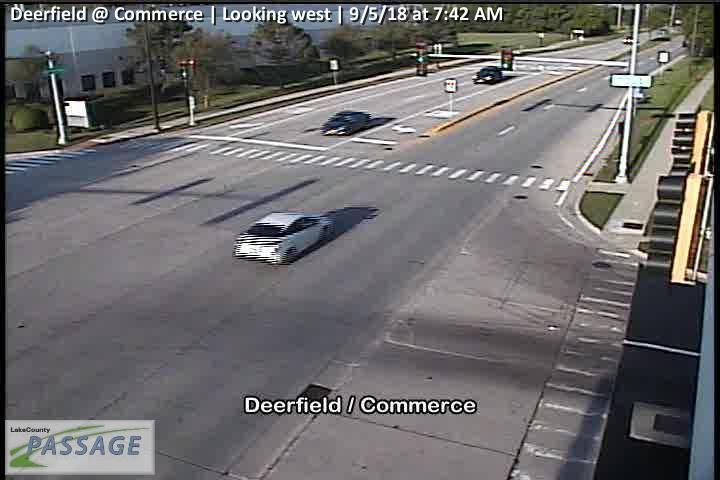Sedan: (233, 212, 333, 265), (320, 111, 370, 136), (472, 66, 502, 83), (622, 35, 633, 43)
